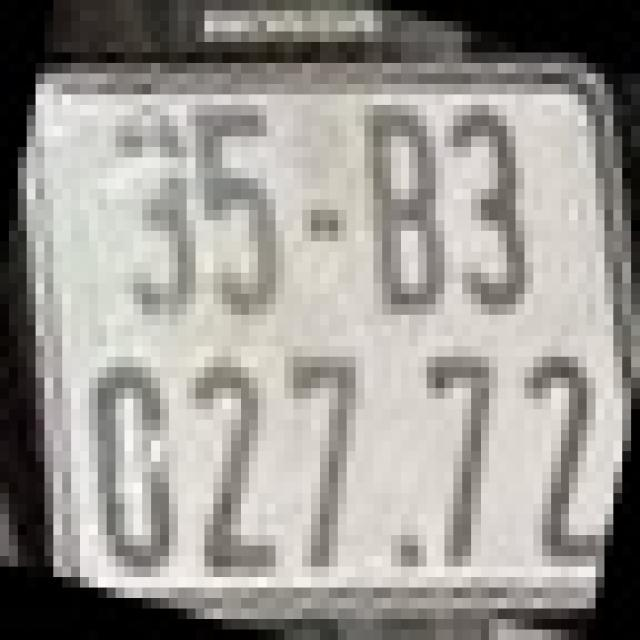0: (89, 356, 178, 566)
2: (186, 357, 284, 577), (524, 346, 604, 567)
3: (444, 105, 534, 315), (106, 105, 196, 315)
5: (196, 105, 284, 315)
7: (284, 356, 356, 566), (427, 356, 498, 566)
B: (364, 105, 444, 315)
